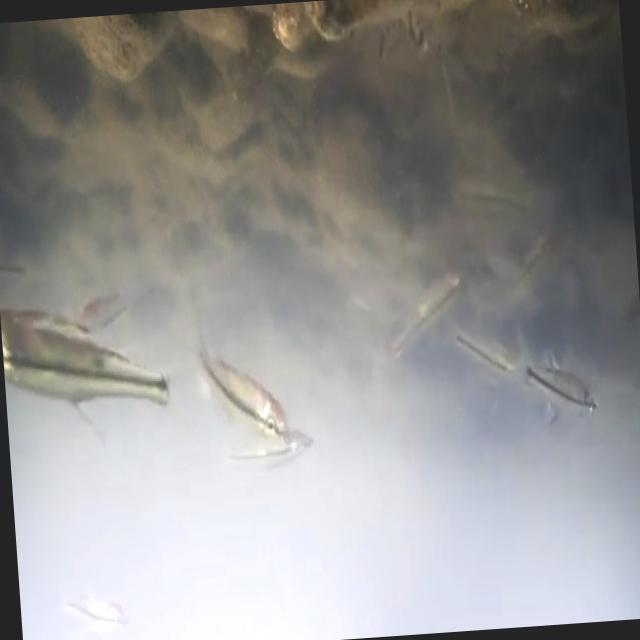Cakil Baligi: (188, 315, 291, 451), (513, 342, 600, 424), (48, 586, 131, 640)
